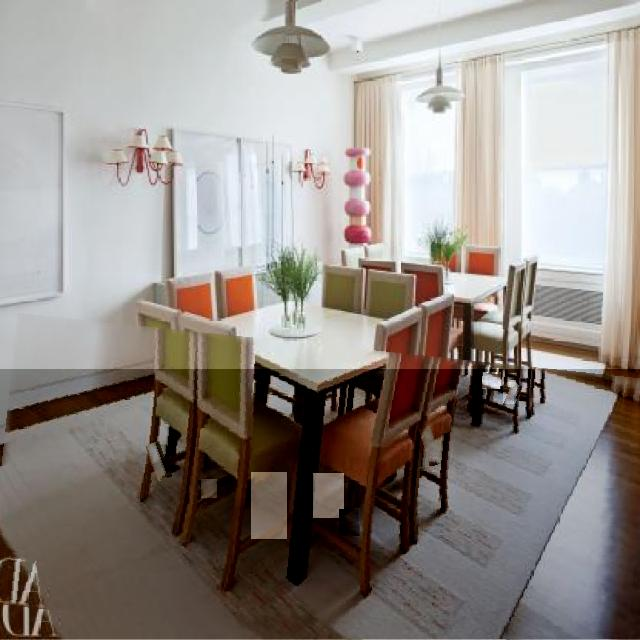floor: (0, 369, 640, 640), (251, 472, 287, 539), (314, 474, 344, 518), (149, 444, 167, 480), (423, 426, 437, 464), (340, 509, 359, 536), (483, 373, 501, 389), (504, 383, 517, 404), (202, 480, 217, 498)
